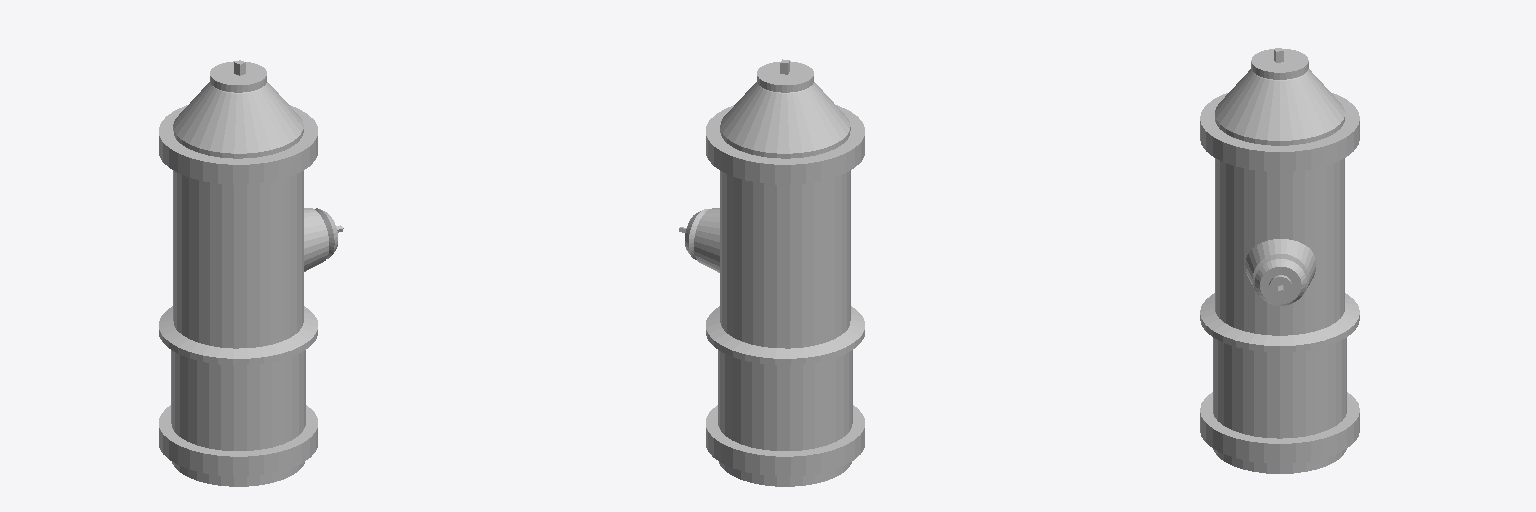
File: HailHydrantBORKED.obj
The picture shows the model from 3 angles: view 1: azimuth 30°, elevation 25°; view 2: azimuth 150°, elevation 25°; view 3: azimuth 270°, elevation 25°; orthographic projection.
Parts seen in each view (by area): view 1: Cylinder.004_Cylinder.007, Cylinder.001; view 2: Cylinder.004_Cylinder.007, Cylinder.001; view 3: Cylinder.004_Cylinder.007, Cylinder.001.
Part boxes in pixels (left/top/right/bottom): Cylinder.004_Cylinder.007: left=159, top=60, right=317, bottom=486; Cylinder.001: left=304, top=208, right=343, bottom=271; Cylinder.004_Cylinder.007: left=706, top=59, right=864, bottom=486; Cylinder.001: left=679, top=208, right=719, bottom=272; Cylinder.004_Cylinder.007: left=1200, top=48, right=1359, bottom=473; Cylinder.001: left=1245, top=239, right=1316, bottom=305.
Size of the model in its own units: 56.39 by 123 by 45.05.